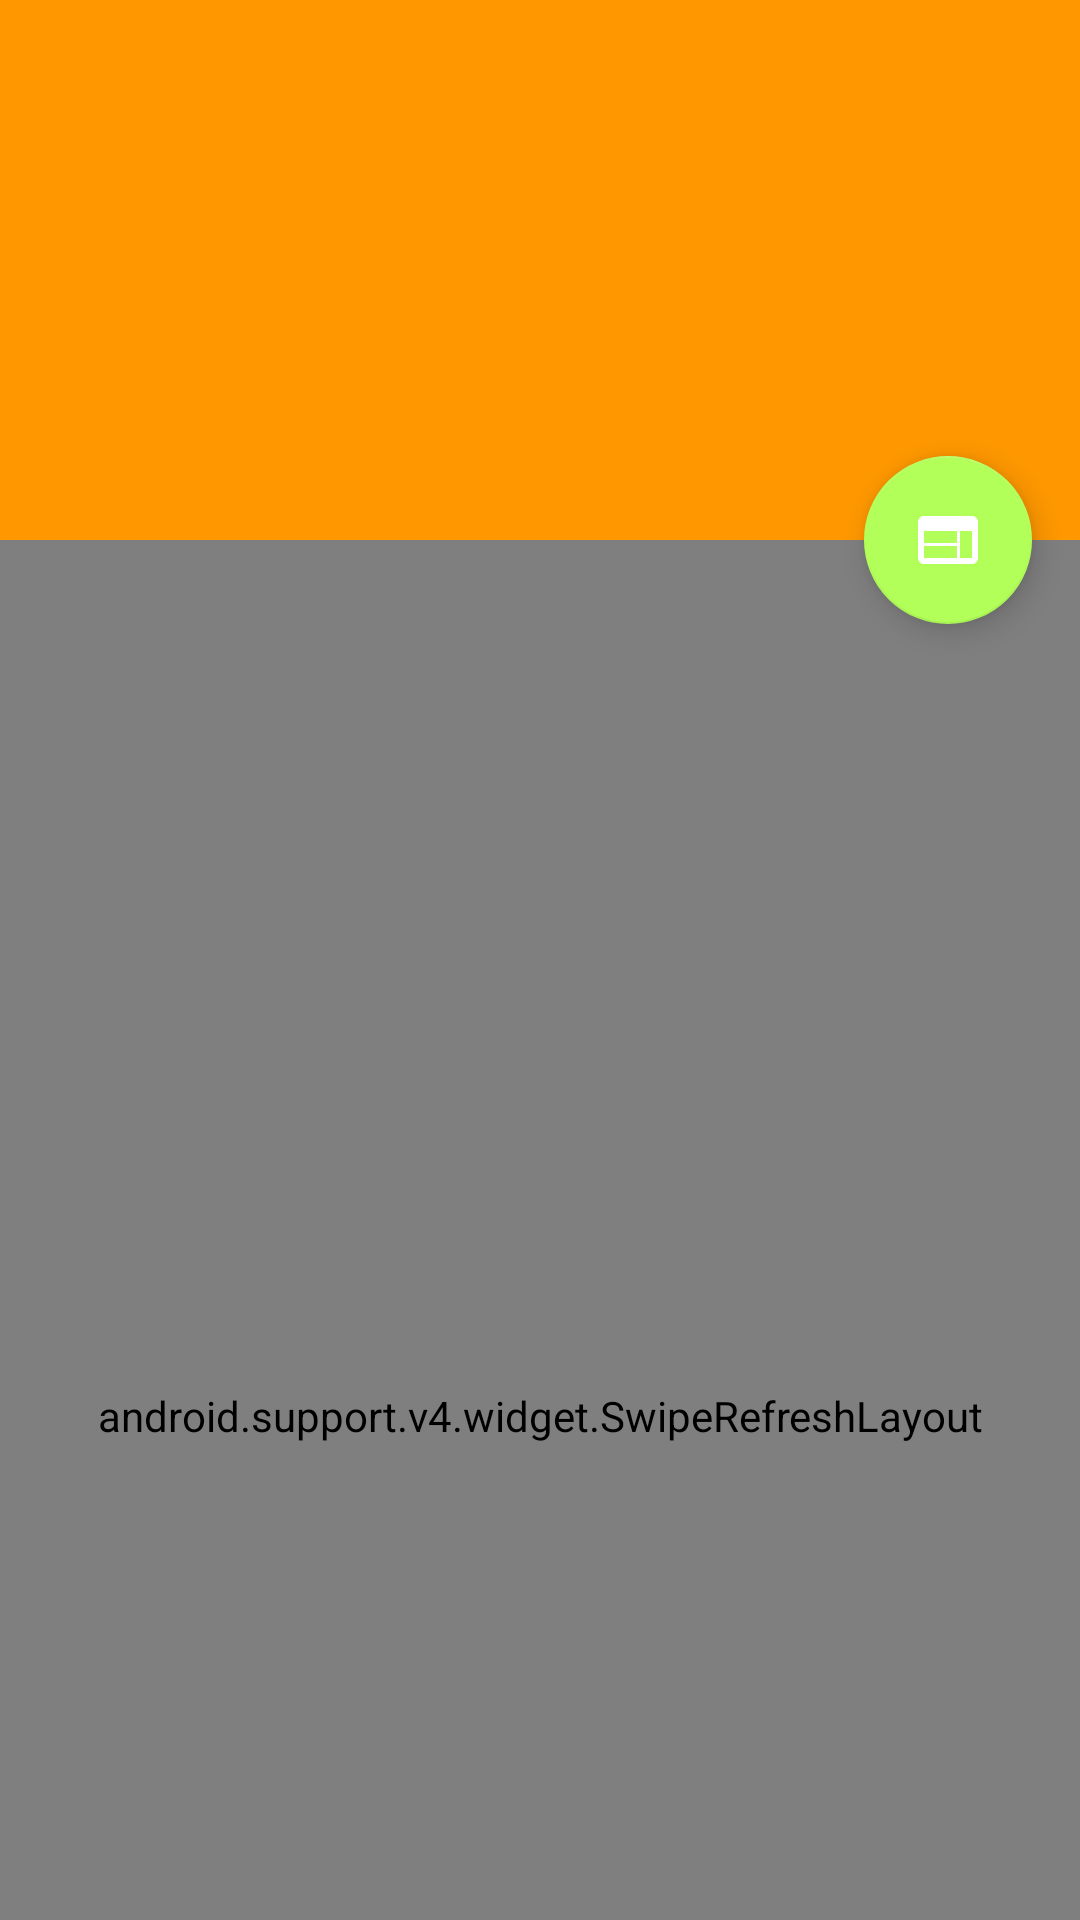

Icons on this 1080×1920 Android screen, each with the point to tap as (x=x, y=y):
web: (x=948, y=540)
